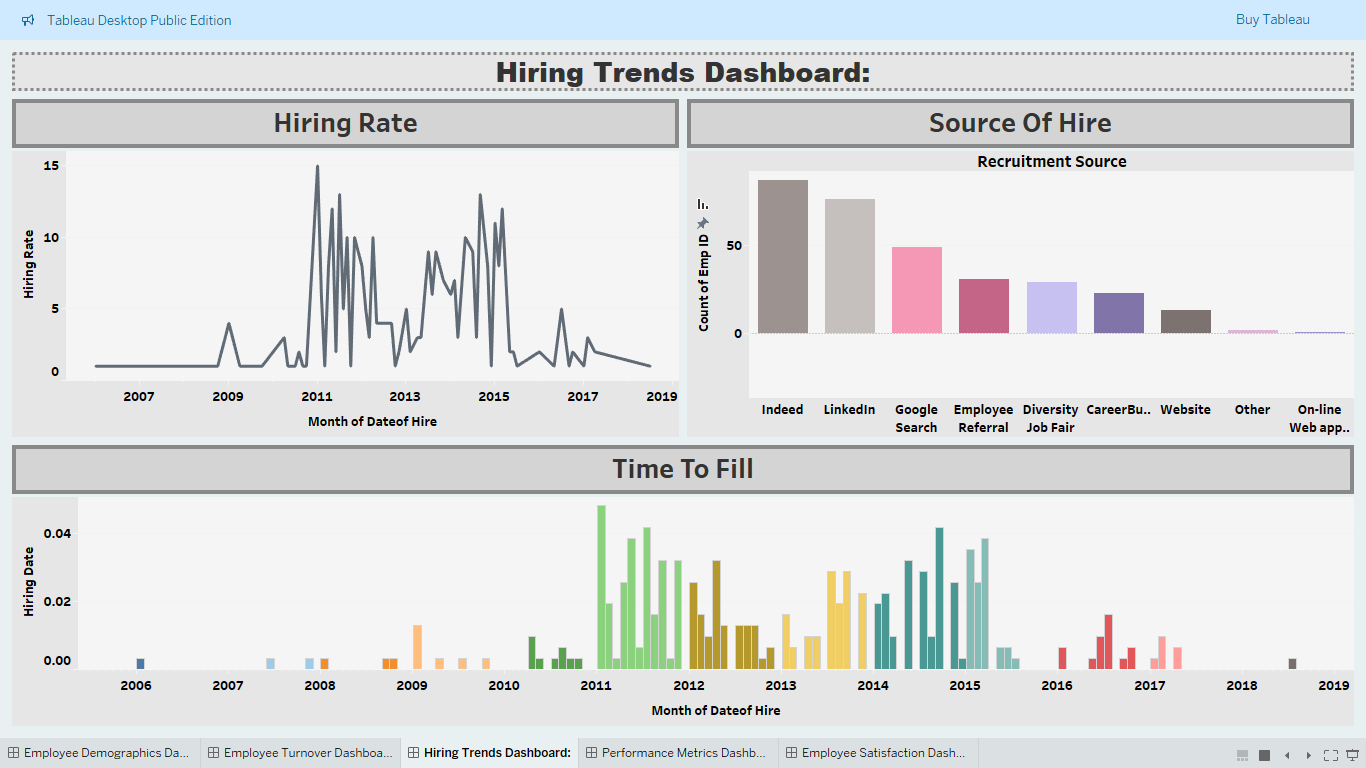

What the dashboard file says about the page in this screenshot:
{"tool":"tableau","page":{"name":"Hiring Trends Dashboard:","canvas":[1000,1000],"units":"permille","ordinal":3},"visuals":[{"type":"title","box":[6.9,14.7,986.1,86.4]},{"type":"worksheet","title":"Hiring Rate","mark":"Automatic","rows":["Calculation_593067812970725378"],"cols":["DateofHire"],"box":[6.9,101.1,492.9,472.4]},{"type":"worksheet","title":"Source Of Hire","mark":"Automatic","rows":["EmpID"],"cols":["RecruitmentSource"],"box":[499.9,101.1,493.2,472.4]},{"type":"worksheet","title":"Time To Fill","mark":"Bar","rows":["Calculation_23362463680610307"],"cols":["DateofHire"],"box":[6.9,573.5,986.1,411.8]}]}

Visuals, with their boxes on the dashboard's canvas, which has no fixed pixel size, in thousandths of its width and height (x1, y1, x2, y2). These are canvas units, not pixel positions in the 1366x768 screenshot, which may show the page scaled, cropped or inside an application window:
title: bbox=(7, 15, 993, 101)
"Hiring Rate" worksheet: bbox=(7, 101, 500, 574)
"Source Of Hire" worksheet: bbox=(500, 101, 993, 574)
"Time To Fill" worksheet (Bar marks): bbox=(7, 574, 993, 985)
